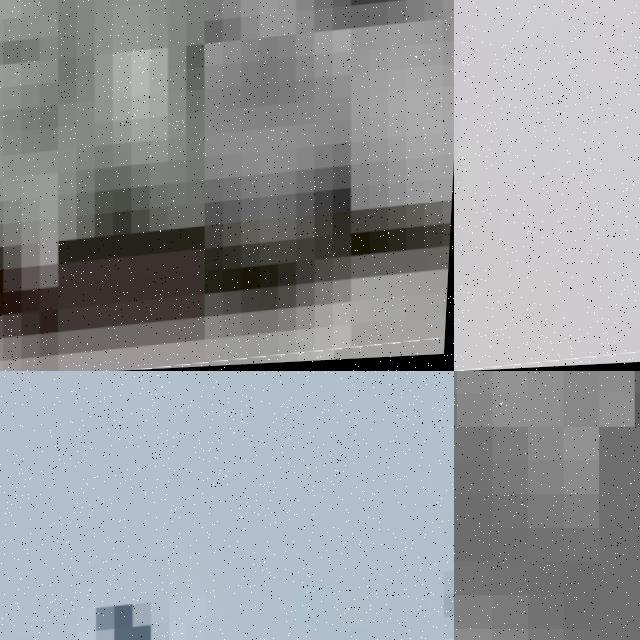0: (0, 0, 454, 371)
drone: (0, 371, 454, 640), (454, 0, 640, 371)
